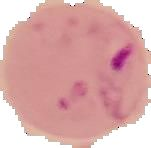parasitized: (5, 5, 151, 142), (57, 69, 135, 119), (91, 15, 140, 74)
